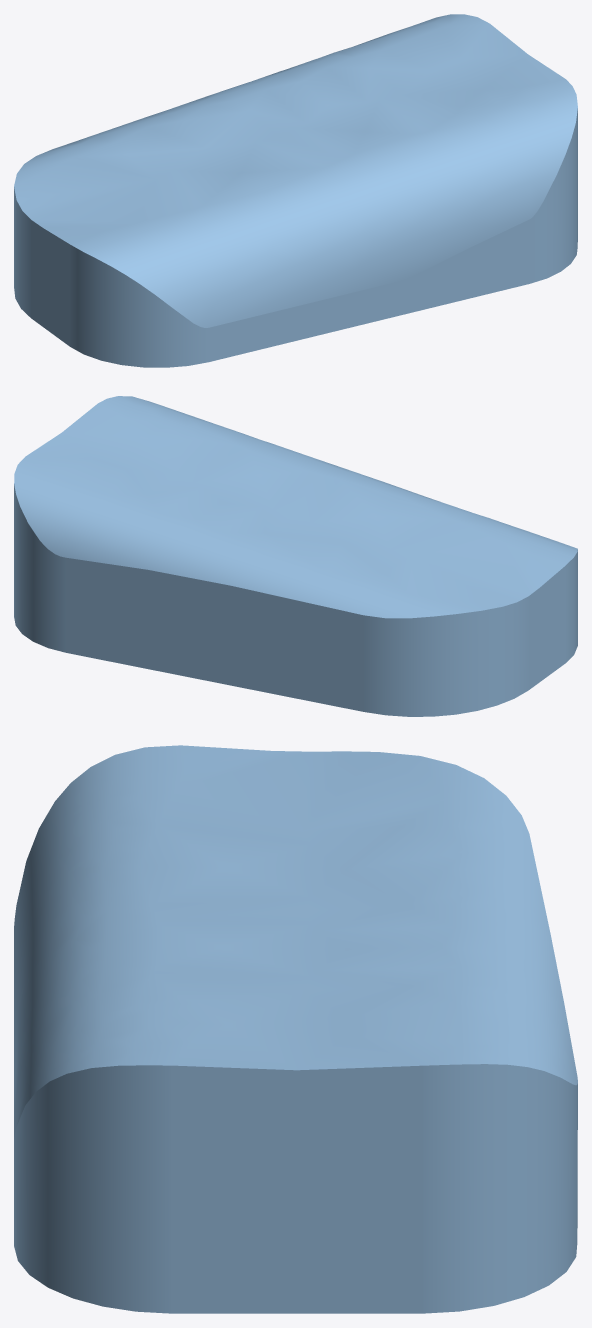
3 views of the same model, one above another, from view 1: azimuth 30°, elevation 25°; view 2: azimuth 150°, elevation 25°; view 3: azimuth 270°, elevation 25° (orthographic). The views are drawn at different scales.
Visible parts, largest first — view 1: =>[0:1:1:2]; view 2: =>[0:1:1:2]; view 3: =>[0:1:1:2].
Part boxes in pixels (x1,y1,x2,y2): =>[0:1:1:2]: [14, 14, 577, 367]; =>[0:1:1:2]: [14, 396, 577, 716]; =>[0:1:1:2]: [14, 745, 577, 1313].
Size of the model in its own units: 38.92 by 11.3 by 23.28.
